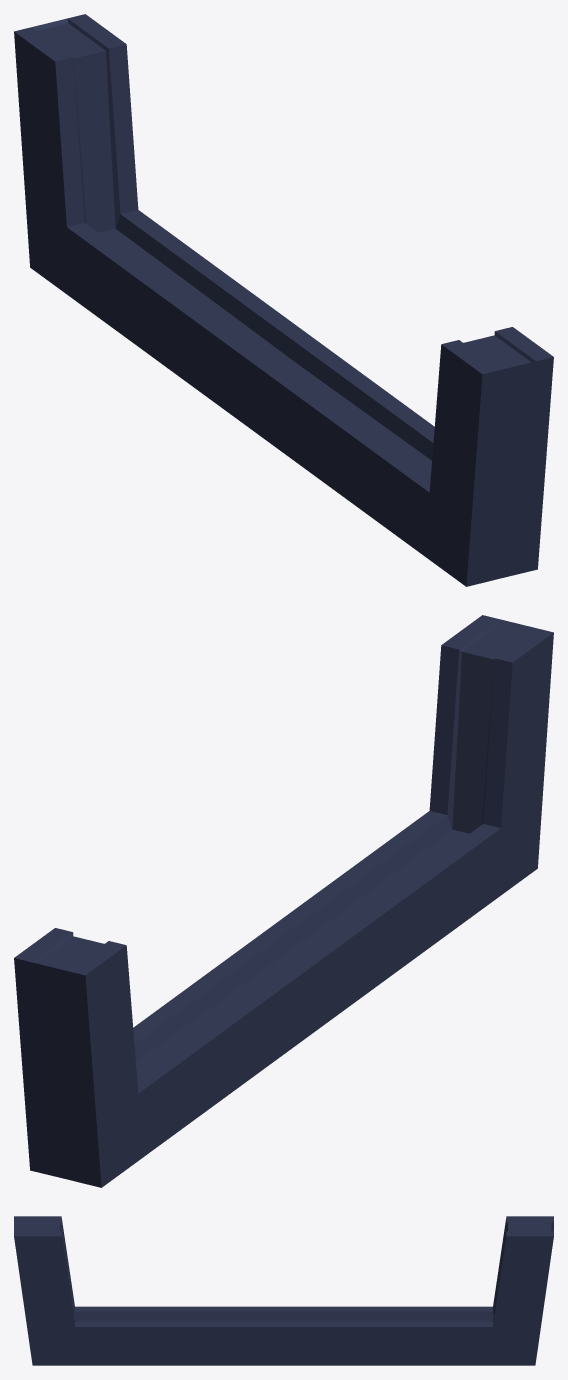
Rendered from GEO_RamSlot.fbx.
The picture shows the model from 3 angles, top to bottom: view 1: azimuth 30°, elevation 25°; view 2: azimuth 150°, elevation 25°; view 3: azimuth 270°, elevation 25°; orthographic projection. The views are drawn at different scales.
Parts seen in each view (by area): view 1: GEO_RamSlot; view 2: GEO_RamSlot; view 3: GEO_RamSlot.
Part boxes in pixels (<box>): GEO_RamSlot: <box>14,14,553,586</box>; GEO_RamSlot: <box>14,615,553,1187</box>; GEO_RamSlot: <box>14,1216,553,1365</box>.
Size of the model in its own units: 0.5 by 1.5 by 5.68.
